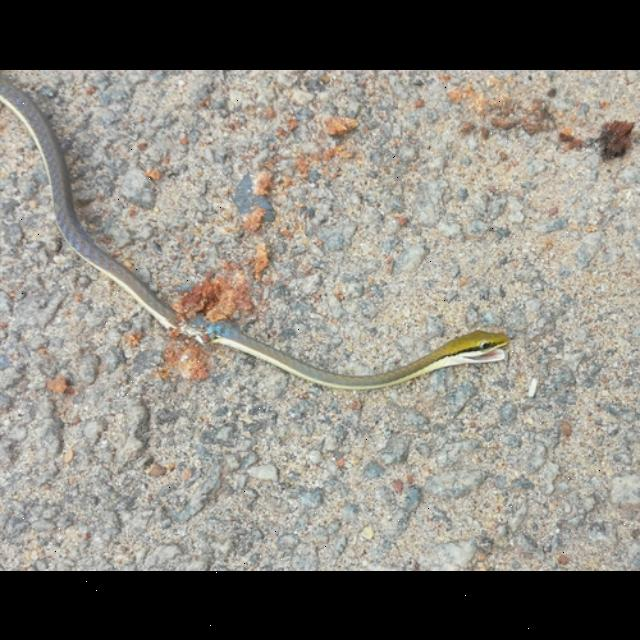snake: (1, 70, 515, 400)
